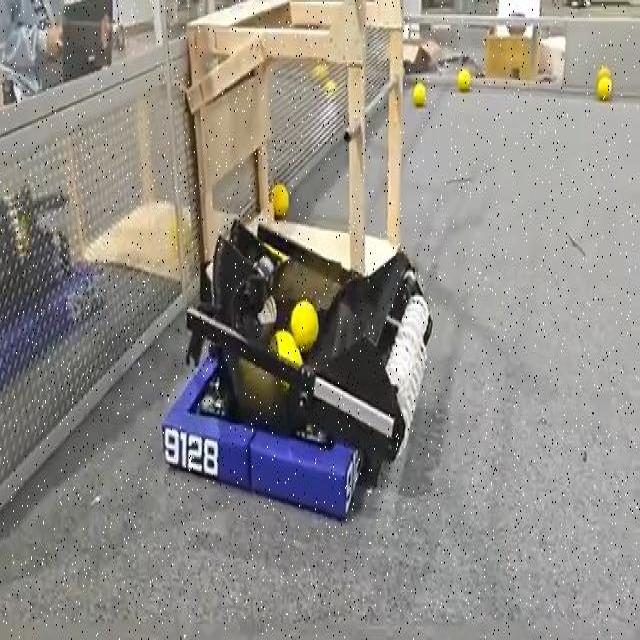Fuel: (290, 299, 319, 352), (290, 300, 318, 350), (270, 183, 289, 218), (271, 183, 288, 217), (596, 76, 613, 102), (412, 82, 426, 106), (457, 68, 471, 90), (598, 64, 611, 80), (597, 66, 610, 80)
